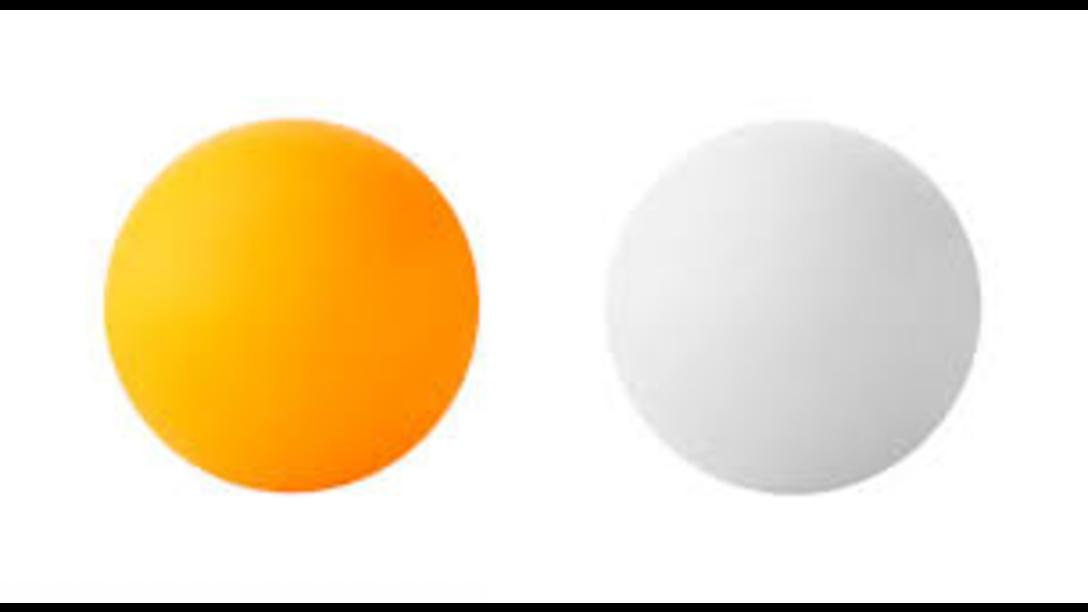Table-Tennis-Ball: (604, 116, 982, 492), (108, 113, 480, 494)
